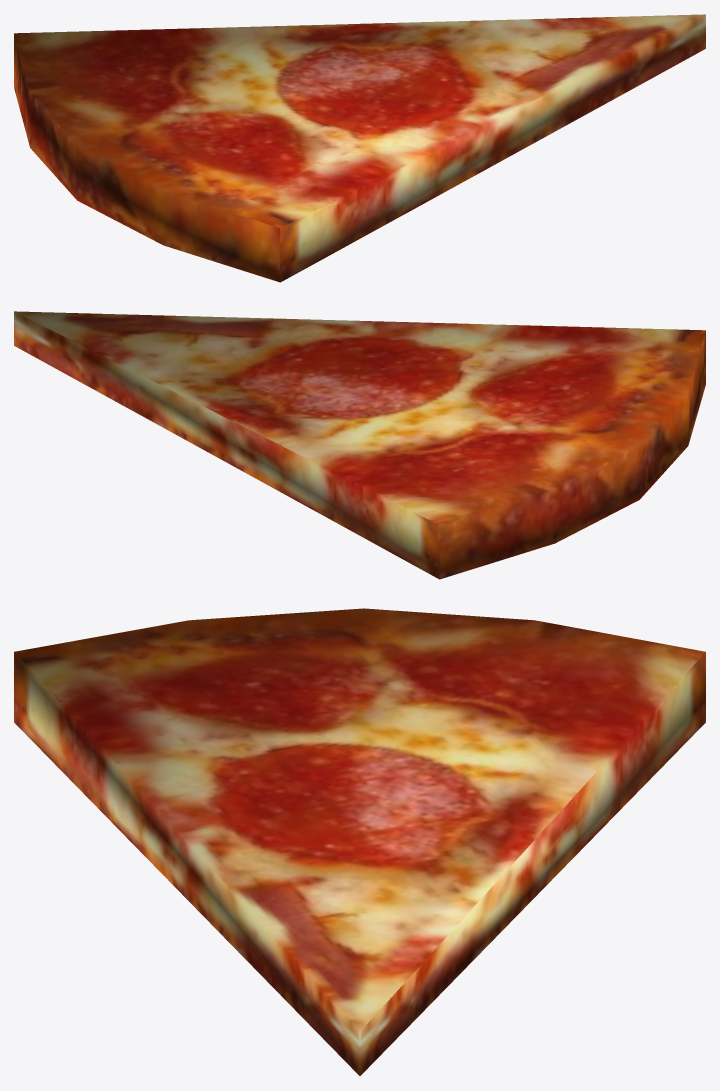
File: Pizza-col.glb
The picture shows the model from 3 angles, top to bottom: view 1: azimuth 30°, elevation 25°; view 2: azimuth 150°, elevation 25°; view 3: azimuth 270°, elevation 25°; orthographic projection. The views are drawn at different scales.
Visible parts, largest first — view 1: Pizza-col; view 2: Pizza-col; view 3: Pizza-col.
Part boxes in pixels (x1,y1,x2,y2): Pizza-col: (14,14,705,282); Pizza-col: (14,311,705,579); Pizza-col: (14,608,705,1075).
Bounding box in the file's own units: 0.2248 × 0.0186 × 0.1654.
1 material, 1 textured.
